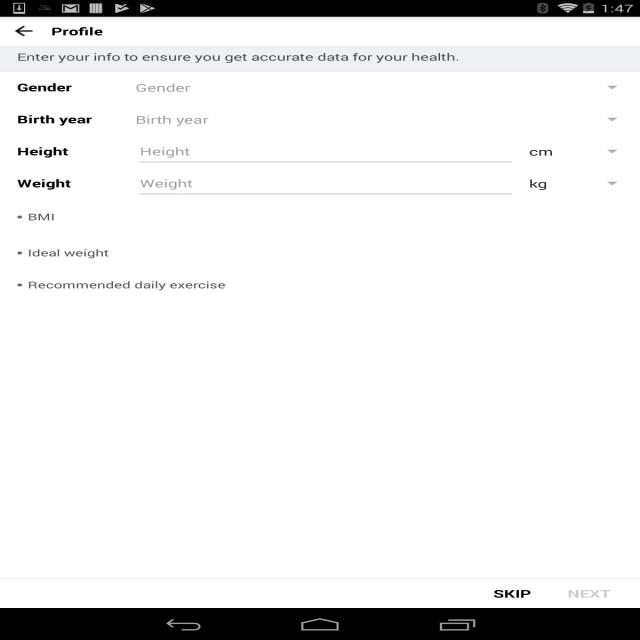button: (523, 140, 628, 166), (522, 171, 628, 194), (556, 580, 625, 606), (484, 578, 541, 606), (599, 108, 629, 130), (8, 23, 40, 42), (601, 79, 627, 96)
field: (135, 139, 630, 165), (133, 171, 631, 196), (132, 108, 630, 130), (131, 77, 629, 98)
heading: (48, 23, 109, 39)
label: (134, 111, 212, 129), (134, 142, 202, 160), (135, 175, 199, 192), (134, 80, 192, 94)
text: (13, 51, 461, 64), (25, 278, 238, 293), (13, 111, 96, 128), (13, 142, 84, 160), (16, 175, 84, 192), (27, 246, 112, 259), (16, 80, 75, 96), (24, 209, 64, 223)
